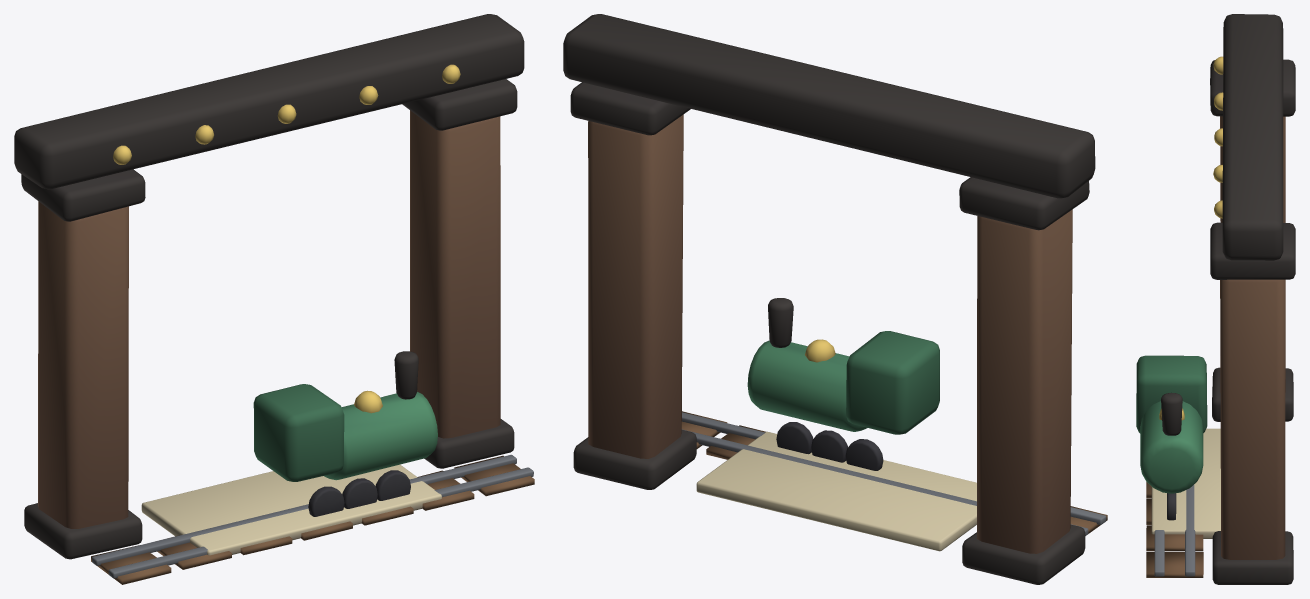
The picture shows the model from 3 angles, left to right: view 1: azimuth 30°, elevation 25°; view 2: azimuth 150°, elevation 25°; view 3: azimuth 270°, elevation 25°; orthographic projection. The views are drawn at different scales.
Parts seen in each view (by area): view 1: gate_435f2021; view 2: gate_435f2021; view 3: gate_435f2021.
Boxes of the visible parts, x1,y1,x2,y2 form: gate_435f2021: (14, 14, 534, 584); gate_435f2021: (563, 14, 1107, 584); gate_435f2021: (1136, 14, 1295, 584).
Bounding box in the file's own units: 4.96 × 4.05 × 1.57.
